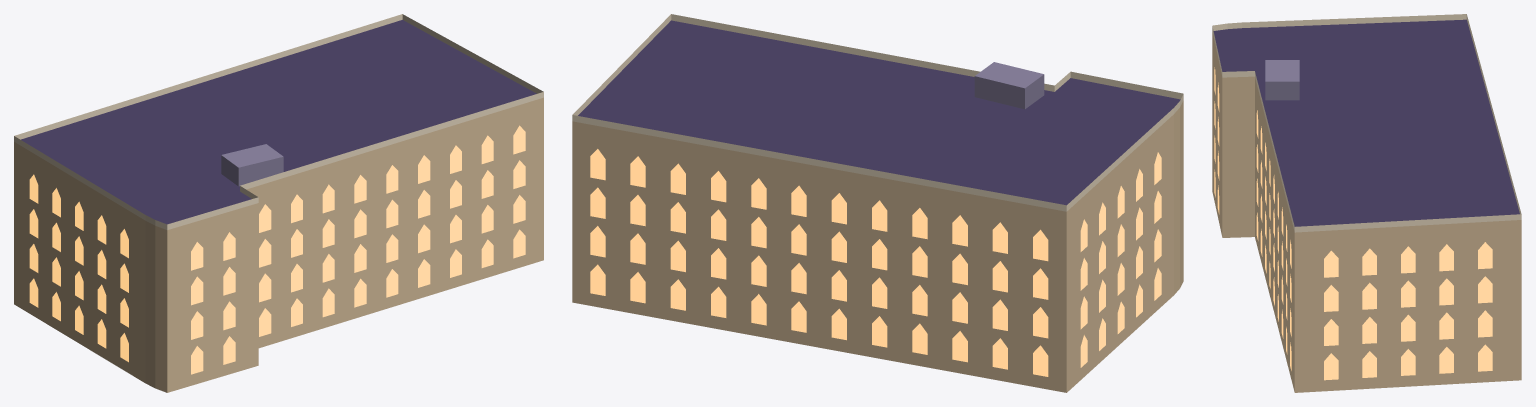
Rendered from b-073-biotron.glb.
The picture shows the model from 3 angles, left to right: view 1: azimuth 30°, elevation 25°; view 2: azimuth 150°, elevation 25°; view 3: azimuth 270°, elevation 25°; orthographic projection. The views are drawn at different scales.
Visible parts, largest first — view 1: campus/b-073-biotron-0; view 2: campus/b-073-biotron-0; view 3: campus/b-073-biotron-0.
Part boxes in pixels (<box>): campus/b-073-biotron-0: <box>14,14,543,392</box>; campus/b-073-biotron-0: <box>572,14,1183,392</box>; campus/b-073-biotron-0: <box>1212,14,1521,392</box>.
Bounding box in the file's own units: 44.1 × 17.3 × 27.07.
